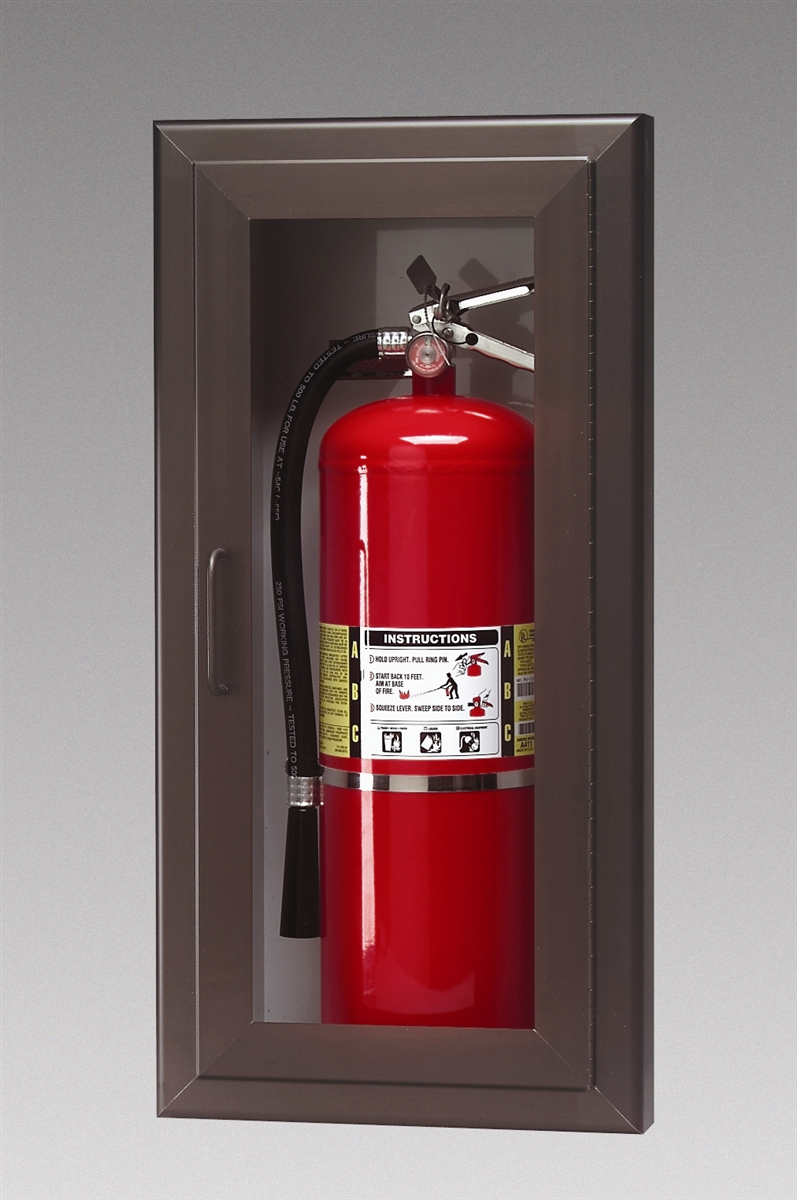fire: (273, 265, 540, 1038)
